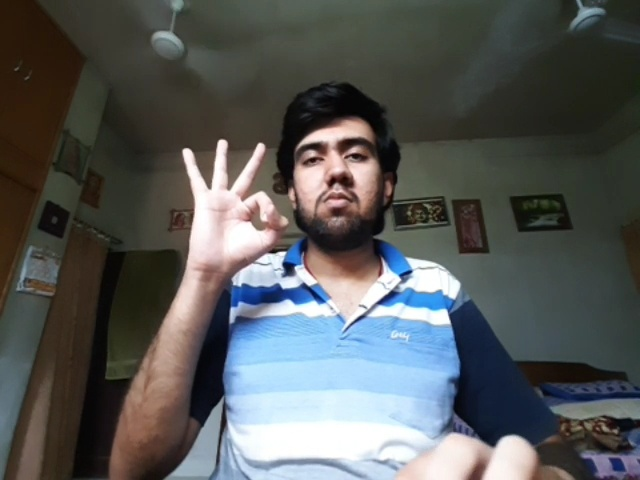Nice: (182, 138, 290, 265)
